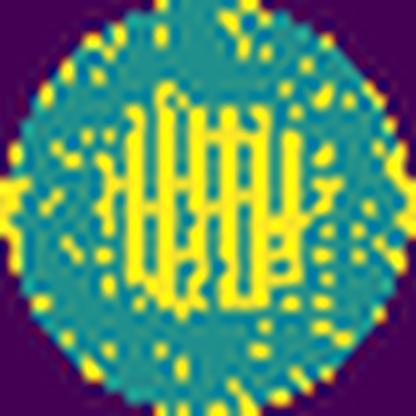Center: (95, 80, 338, 314)
